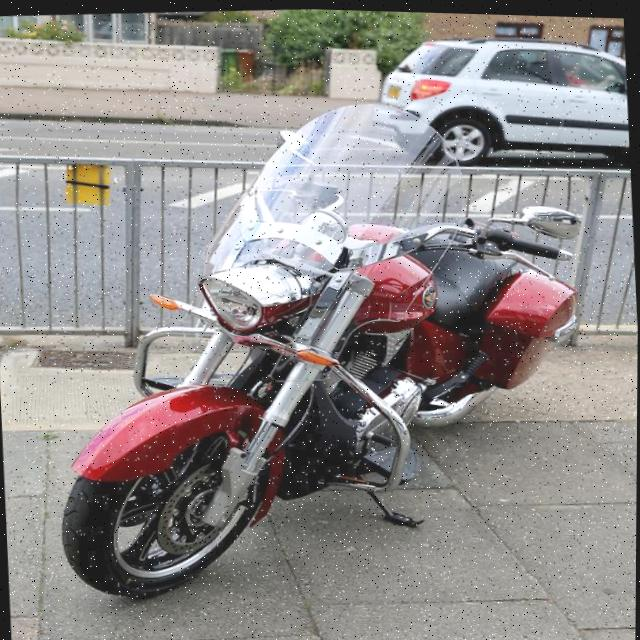car: (369, 24, 631, 186)
motorcycle: (28, 76, 606, 616)
